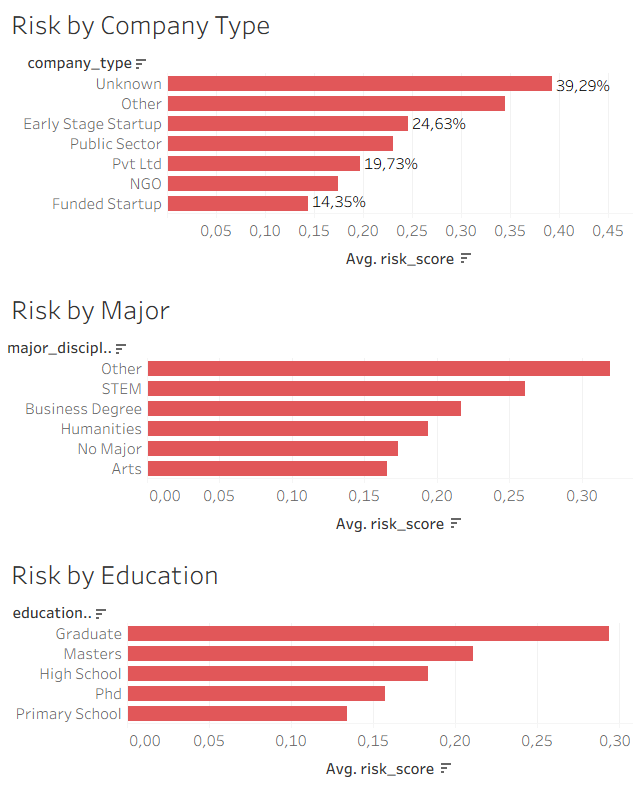

Layout of this report page (visuals, bound fields, positions):
{"tool":"tableau","page":{"name":"Dashboard 2","canvas":[650,860],"ordinal":1},"visuals":[{"type":"worksheet","title":"Risk by Company Type","mark":"Automatic","rows":["company_type"],"cols":["risk_score"],"box":[8,8.5,634,302.1]},{"type":"worksheet","title":"Risk by Major","mark":"Automatic","rows":["major_discipline"],"cols":["risk_score"],"box":[8,310.6,634,280]},{"type":"worksheet","title":"Risk by Education","mark":"Automatic","rows":["education_level"],"cols":["risk_score"],"box":[8,590.6,634,260.9]}]}

Visuals, with their boxes on the page's 650x860 design canvas (x1, y1, x2, y2). These are canvas units, not pixel positions in the 642x792 screenshot, which may show the page scaled, cropped or inside an application window:
"Risk by Company Type" worksheet: 8:8:642:311
"Risk by Major" worksheet: 8:311:642:591
"Risk by Education" worksheet: 8:591:642:852
